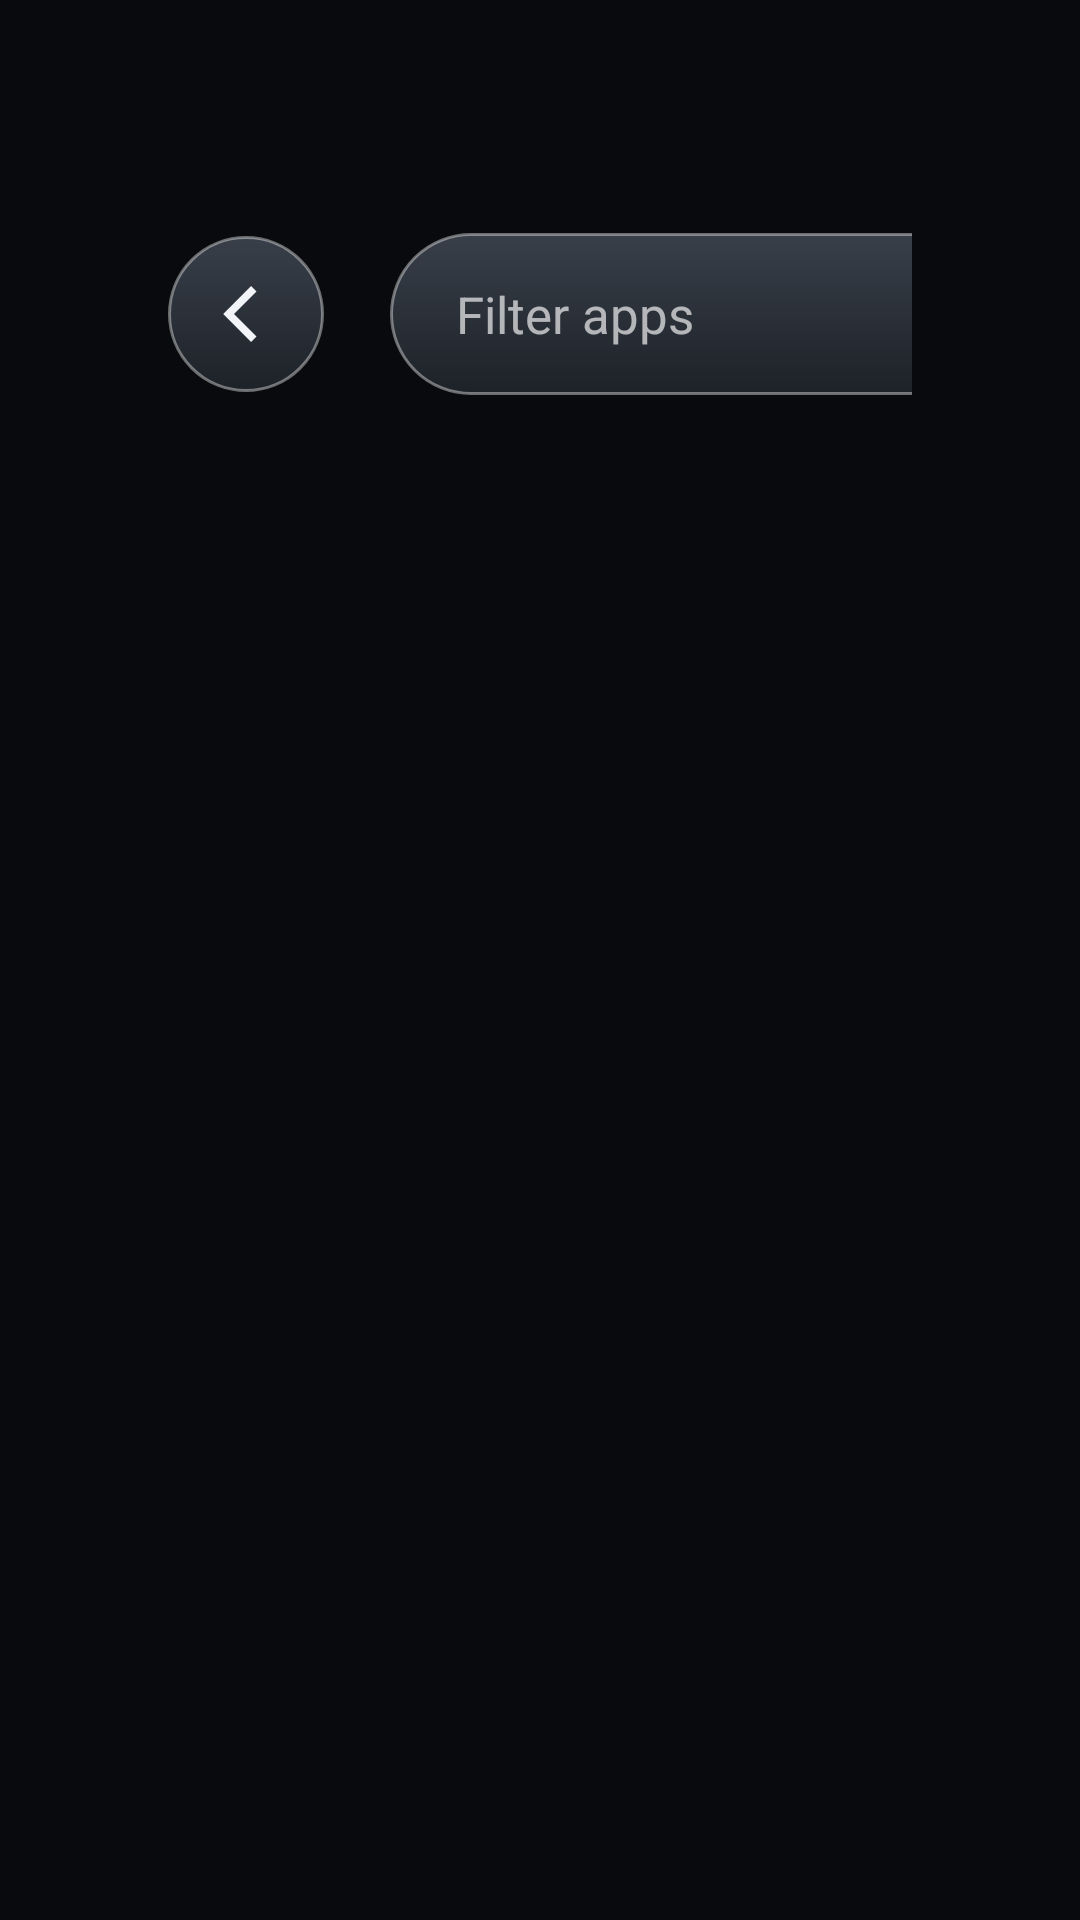

Icons on this 1080x1920 Android screen, each with its box as (x1, y1, x2, y2):
Back: (168, 236, 324, 392)
